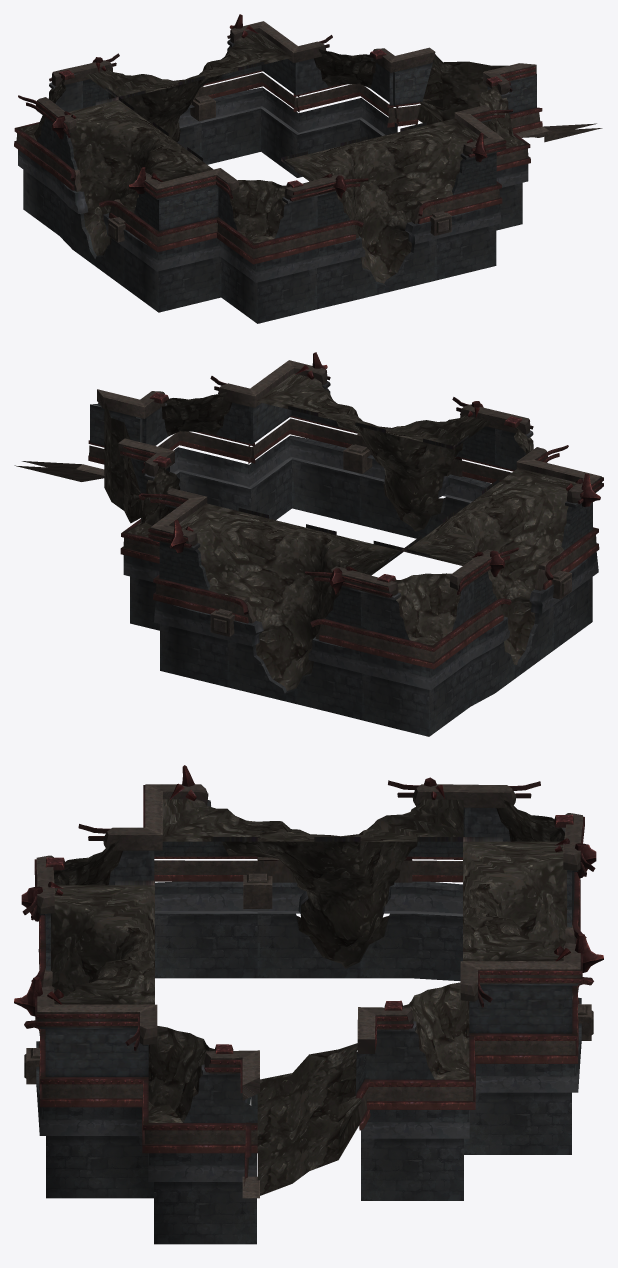
File: mesh_tower_04.FBX
The picture shows the model from 3 angles, top to bottom: view 1: azimuth 30°, elevation 25°; view 2: azimuth 150°, elevation 25°; view 3: azimuth 270°, elevation 25°; orthographic projection. The views are drawn at different scales.
Visible parts, largest first — view 1: mesh_tower_04; view 2: mesh_tower_04; view 3: mesh_tower_04.
Boxes of the visible parts, x1,y1,x2,y2 form: mesh_tower_04: [14, 14, 602, 323]; mesh_tower_04: [14, 352, 603, 736]; mesh_tower_04: [14, 765, 603, 1244].
Size of the model in its own units: 33.13 by 8.95 by 22.93.
